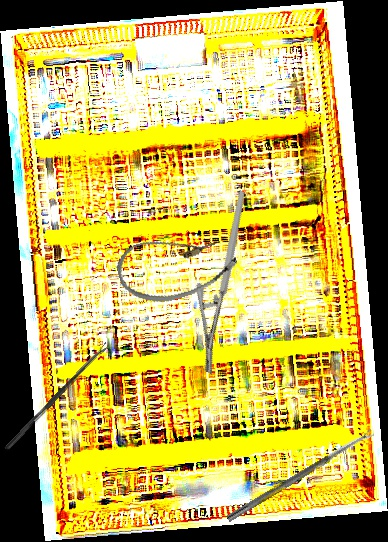Cannula: (111, 217, 243, 314)
Needle Holder: (152, 189, 300, 376)
Surgical Spoon: (226, 429, 375, 523), (4, 342, 110, 452)
